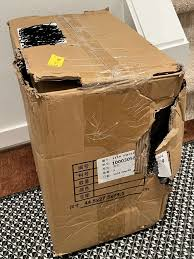damaged package: (140, 86, 178, 199), (8, 54, 90, 105)
